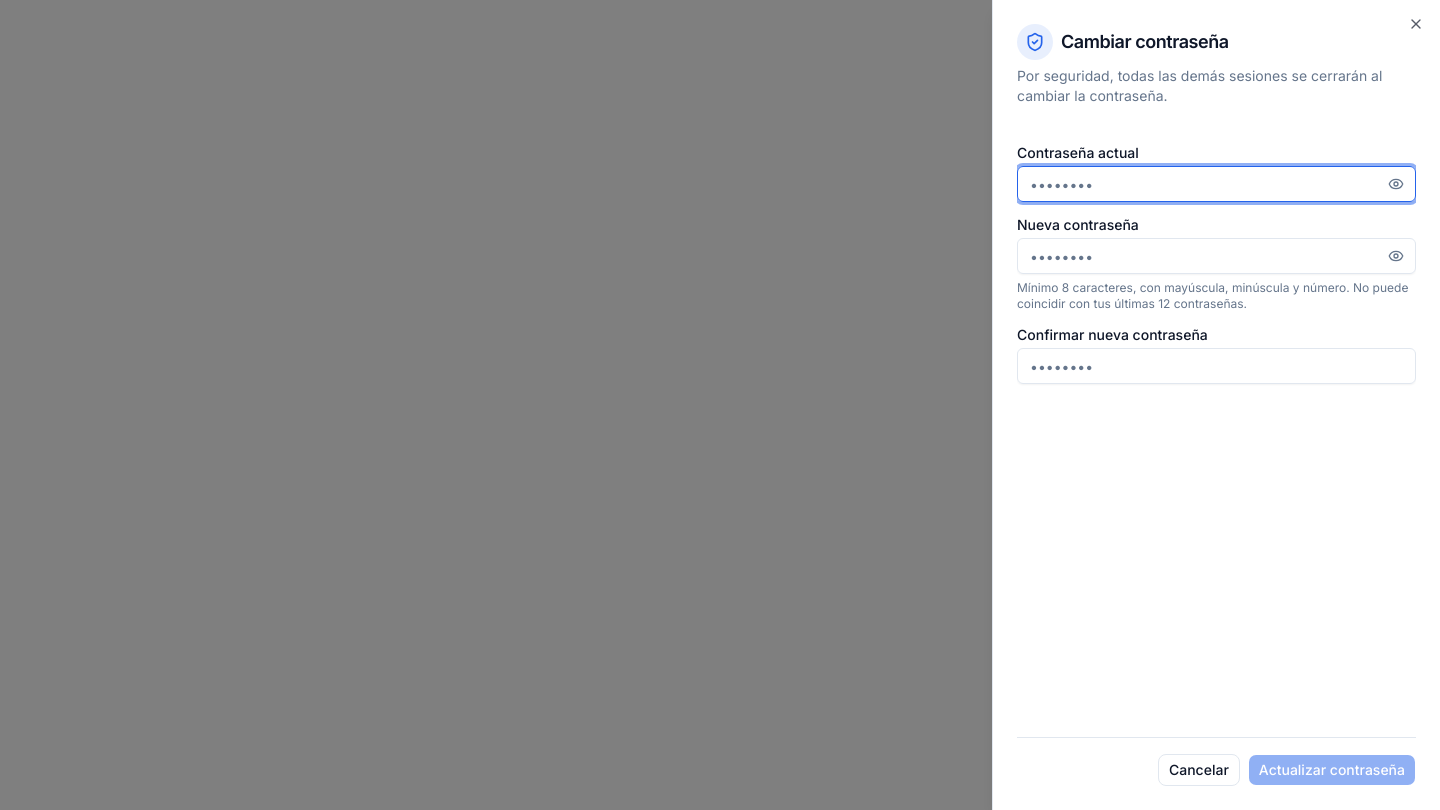
it: ChangePasswordSheet › muestra mensaje de error cuando el servidor devuelve PASSWORD_REUSED
The width and height of the screenshot is (1440, 810).
Type "OldPass2024!" into the password field labelled "Contraseña actual" at (1216, 184), box [1017,166,1416,202]
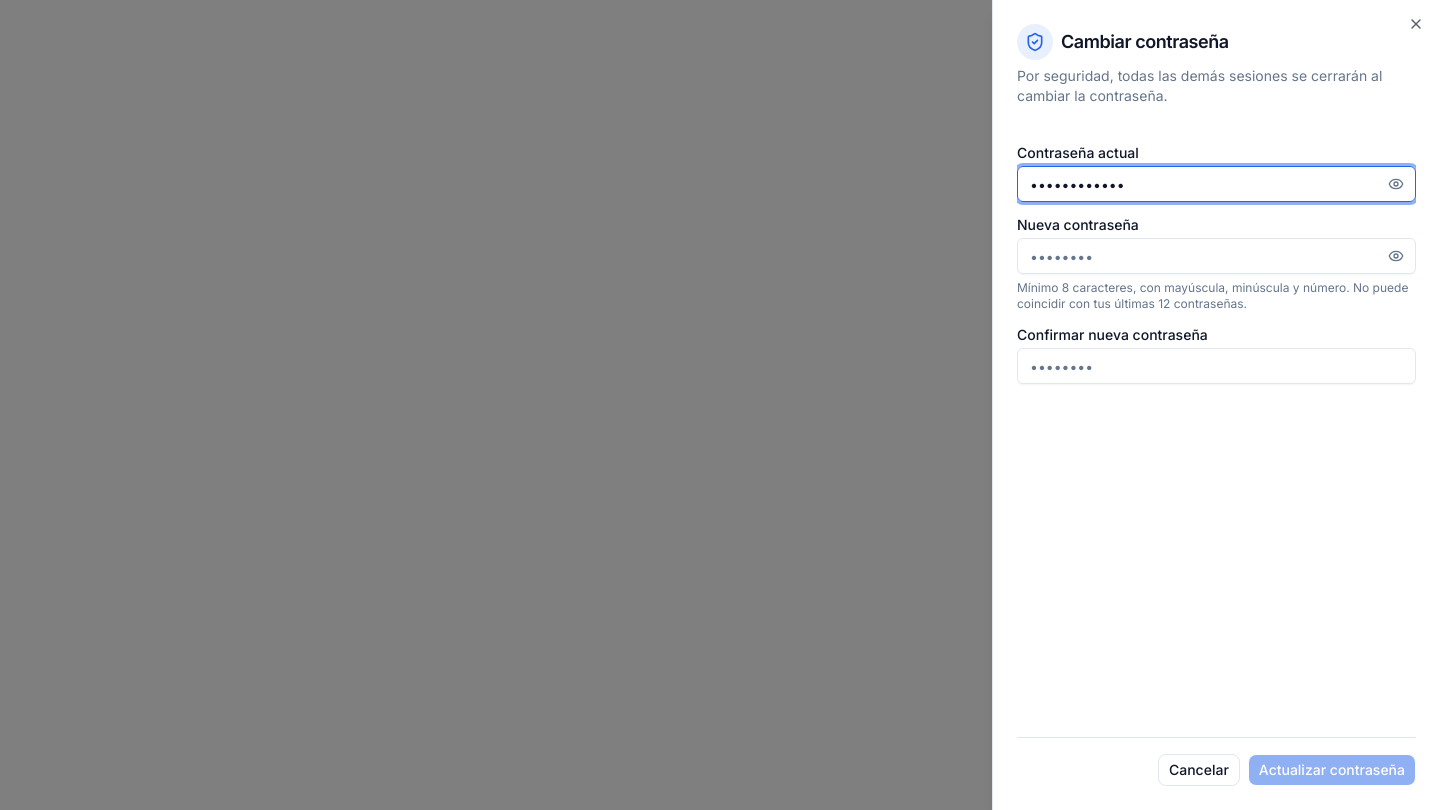
Type "NewPass2024!" into the password field labelled "Nueva contraseña" at (1216, 256), box [1017,238,1416,274]
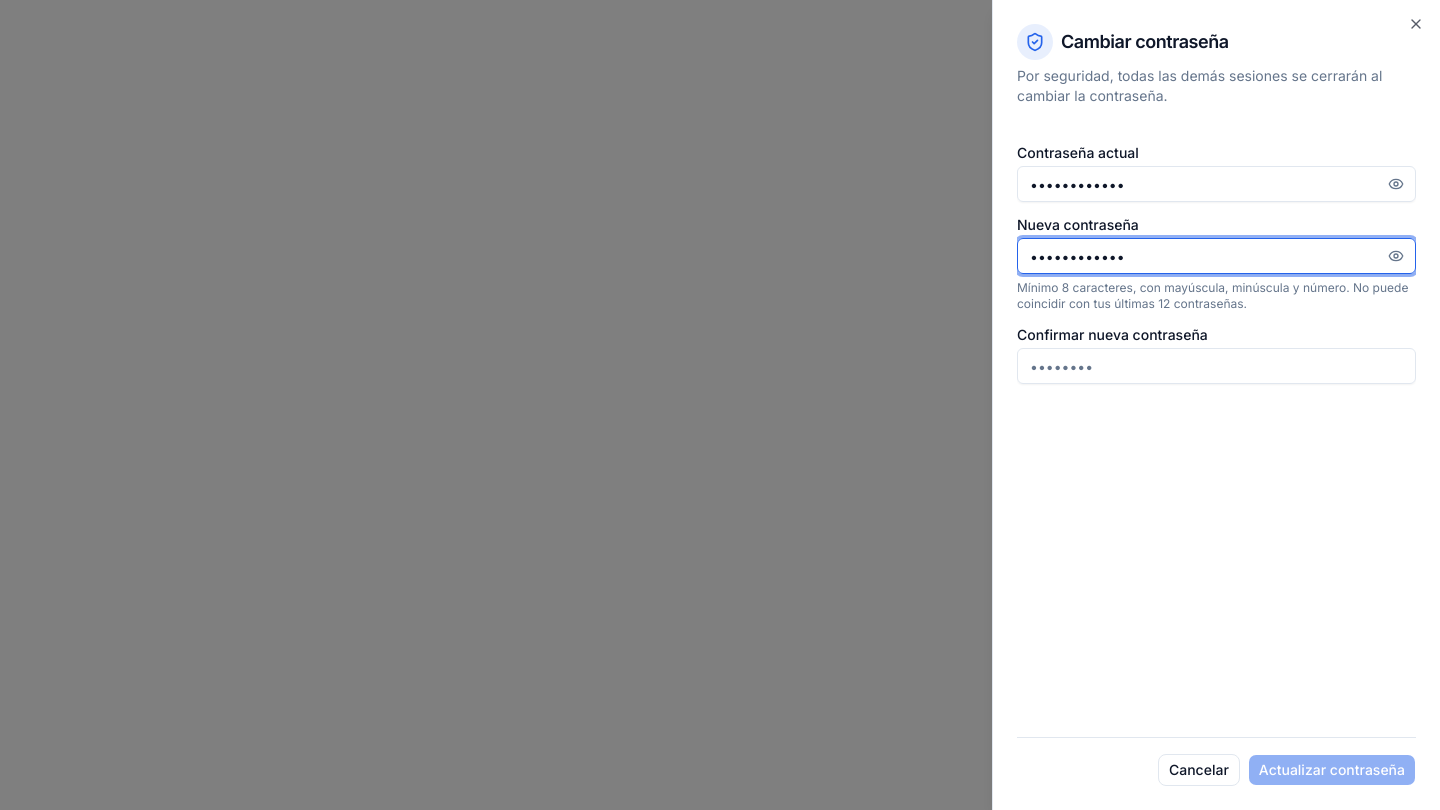
Type "NewPass2024!" into the password field labelled "Confirmar nueva contraseña" at (1216, 366), box [1017,348,1416,384]
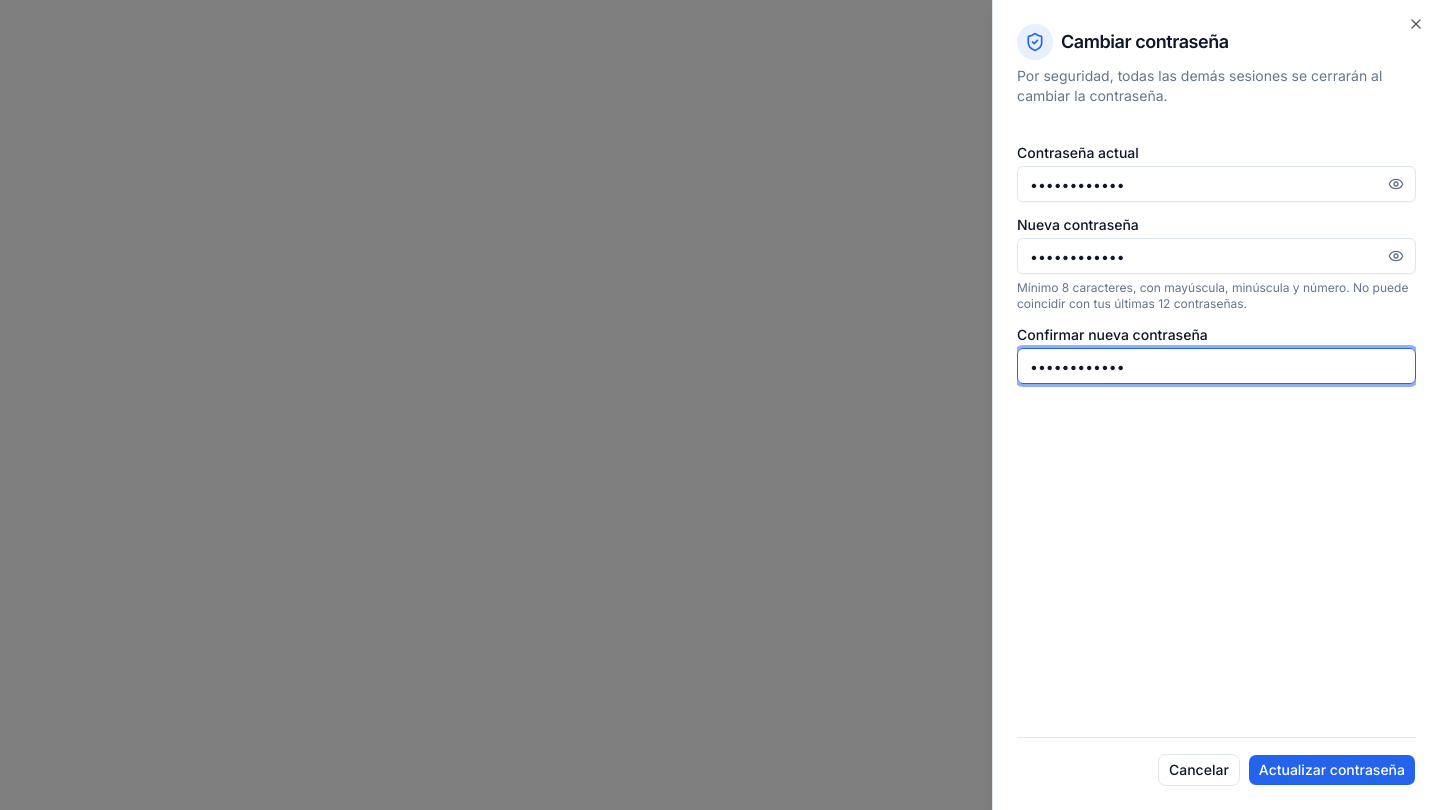
Result: the button "Actualizar contraseña" is enabled
Click the button "Actualizar contraseña" at (1332, 770), box [1248,754,1416,786]
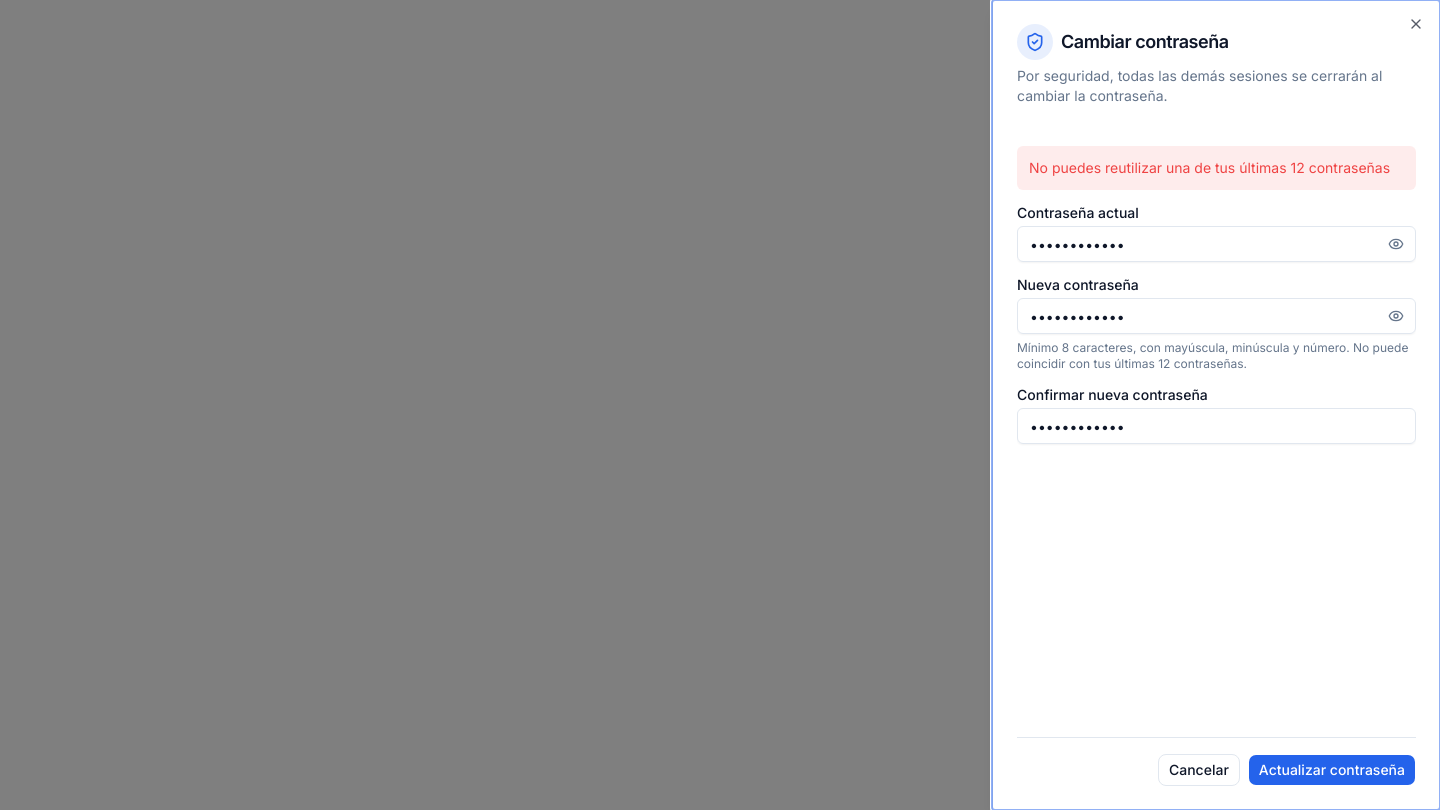
Result: the message reads "No puedes reutilizar una de tus últimas 12 contraseñas" at [1029,159,1390,176]
